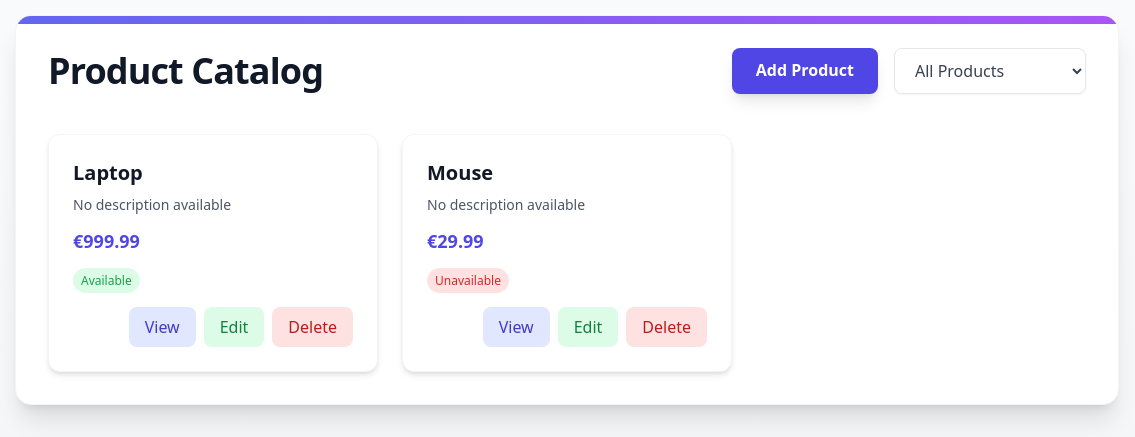
Test: ProductList › filters unavailable products
This screenshot has width=1135, height=437.
Expected: the heading "Mouse" is shown, 427,159 -> 493,186
Select "Unavailable" in the dropdown at (990, 71), box 894,48 -> 1086,94
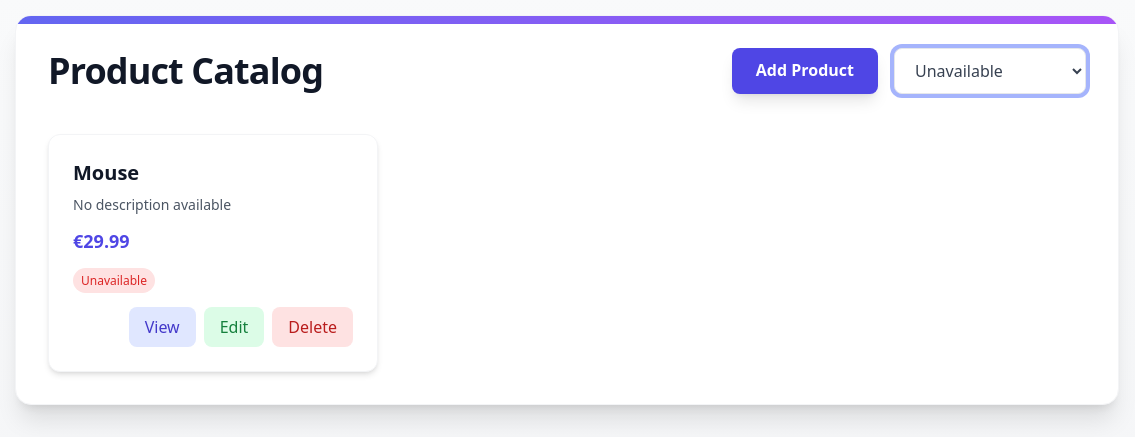
Expected: the heading "Mouse" is shown, 73,159 -> 139,186
Now the heading "Laptop" is gone
